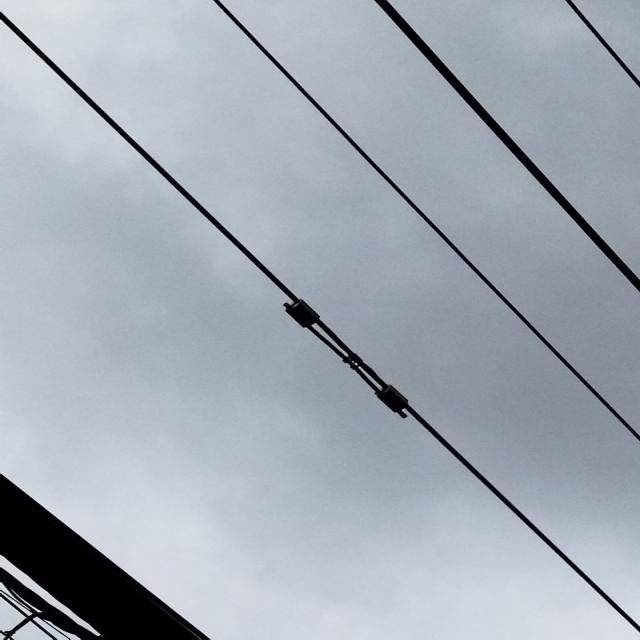wire: (0, 0, 640, 640), (209, 0, 640, 448), (369, 0, 640, 301), (561, 0, 640, 91)
